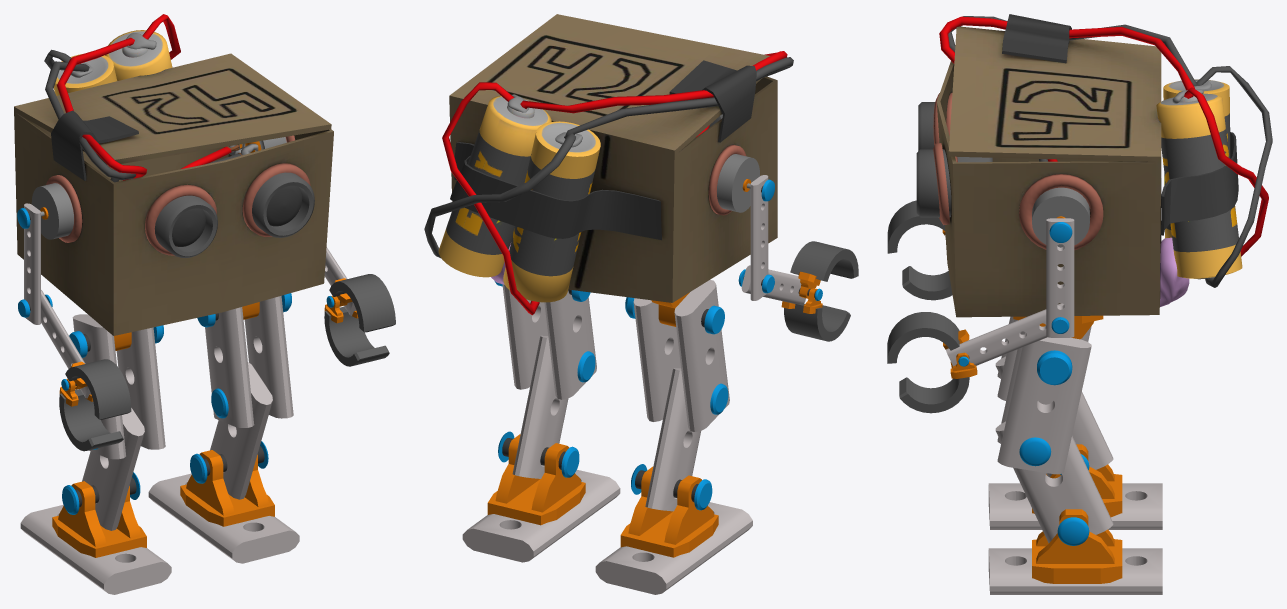
The model's file is boxbot-transformed.glb.
3 renders of one model, left to right at view 1: azimuth 30°, elevation 25°; view 2: azimuth 150°, elevation 25°; view 3: azimuth 270°, elevation 25°, orthographic. The views are drawn at different scales.
Visible parts, largest first — view 1: BOX, Cube.002, Cube.012, Cube.004, CIRCUITO, Cylinder.003, Cube.009, Cube.006, Cube.007, Plane.002, Cube.008, Cube.010 (+10 smaller); view 2: BOX, CIRCUITO, Cube.002, Cube.012, Cube.009, DUCTAPE, PILA.001, PILA.003, Cube.004, Cube.006, Cube.007, Plane.002 (+5 smaller); view 3: BOX, CIRCUITO, Cube.002, Cube.004, PILA.003, Cube.006, Cube.012, DUCTAPE, Cube.011, Cube.013, Cylinder.003, Plane.002 (+9 smaller).
Part boxes in pixels (x1,y1,x2,y2): BOX: [14, 53, 333, 335]; Cube.002: [148, 450, 299, 563]; Cube.012: [20, 481, 171, 594]; Cube.004: [197, 293, 293, 427]; CIRCUITO: [17, 14, 286, 239]; Cylinder.003: [154, 172, 314, 257]; Cube.009: [69, 314, 165, 459]; Cube.006: [190, 362, 272, 499]; Cube.007: [62, 408, 144, 530]; Plane.002: [51, 110, 138, 180]; Cube.008: [65, 359, 131, 419]; Cube.010: [329, 274, 395, 332]; BOX: [449, 14, 777, 302]; CIRCUITO: [424, 51, 793, 315]; Cube.002: [462, 434, 620, 562]; Cube.012: [595, 466, 752, 594]; Cube.009: [625, 280, 729, 431]; DUCTAPE: [450, 142, 661, 240]; PILA.001: [503, 121, 600, 302]; PILA.003: [438, 96, 551, 277]; Cube.004: [494, 281, 596, 399]; Cube.006: [498, 335, 595, 478]; Cube.007: [631, 368, 728, 511]; Plane.002: [669, 60, 756, 142]; BOX: [937, 26, 1161, 317]; CIRCUITO: [939, 16, 1272, 306]; Cube.002: [988, 509, 1162, 594]; Cube.004: [997, 326, 1091, 474]; PILA.003: [1156, 93, 1242, 278]; Cube.006: [995, 421, 1113, 545]; Cube.012: [988, 444, 1162, 529]; DUCTAPE: [1160, 132, 1238, 235]; Cube.011: [946, 303, 1069, 366]; Cube.013: [1046, 218, 1074, 337]; Cylinder.003: [916, 102, 992, 217]; Plane.002: [1002, 14, 1071, 63].
Size of what is drawn, in the model's own units: 2.82 by 4.13 by 2.95.
Materials: 15 (2 with a texture image).
